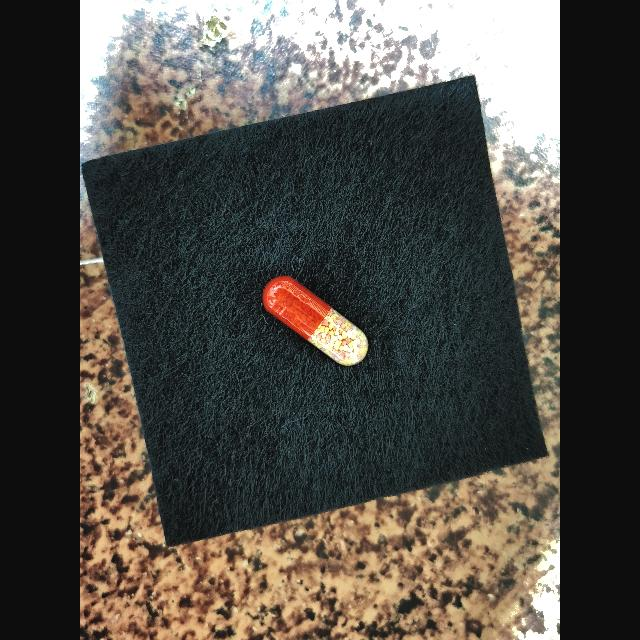Intact Capsule: (262, 276, 368, 366)
